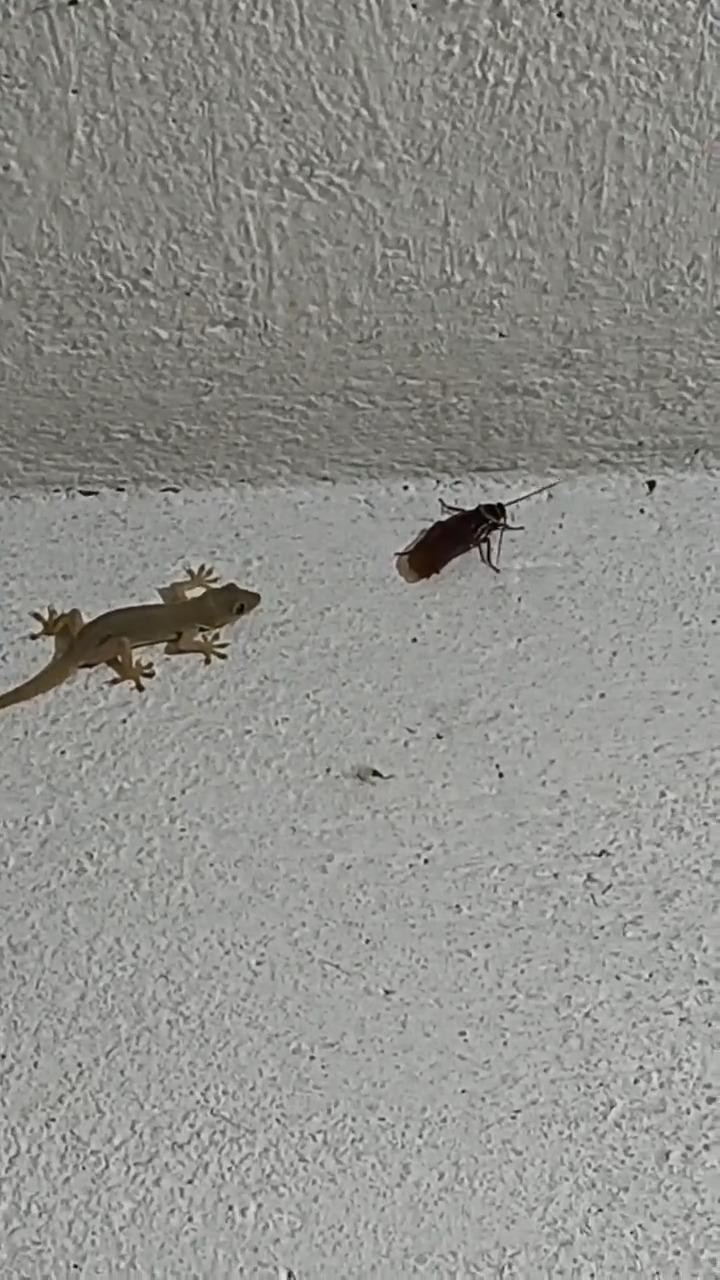cockroach: (398, 485, 521, 620)
lizard: (0, 558, 283, 704)
